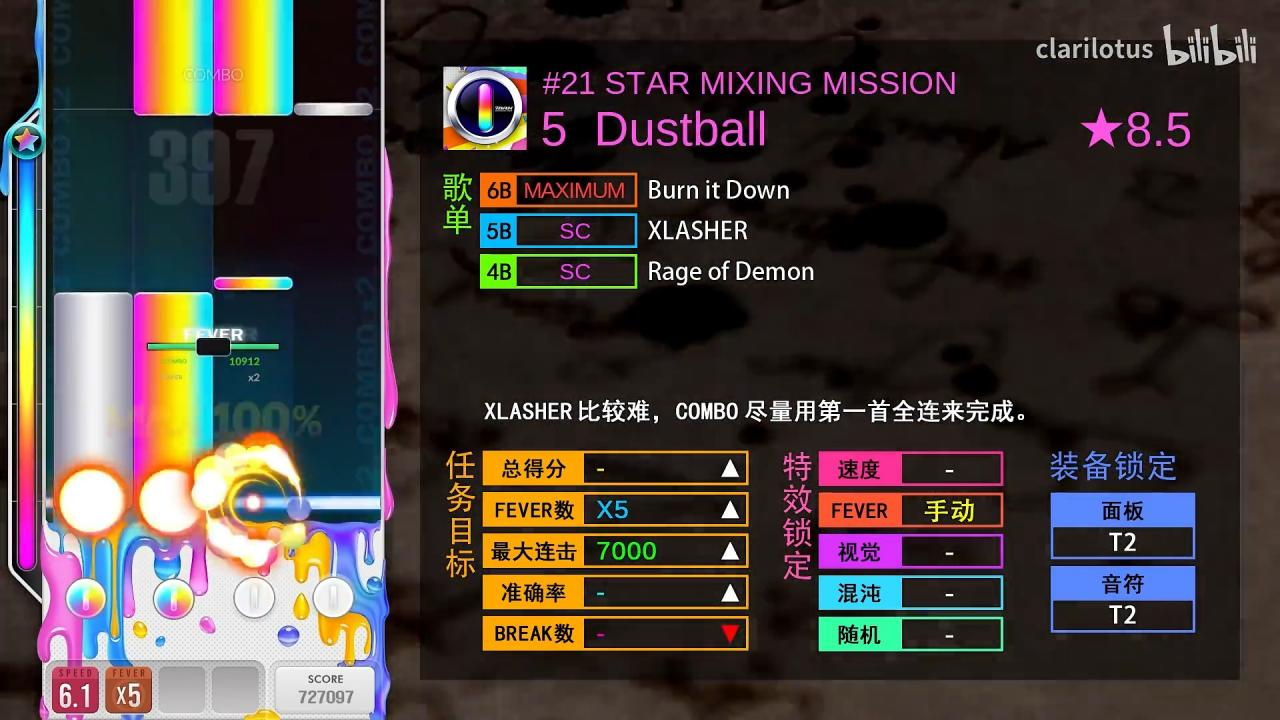hold-end: (133, 292, 214, 307), (54, 292, 134, 305)
hold-start: (134, 102, 214, 116), (214, 102, 293, 116)
note: (214, 276, 293, 291), (293, 102, 373, 116)
